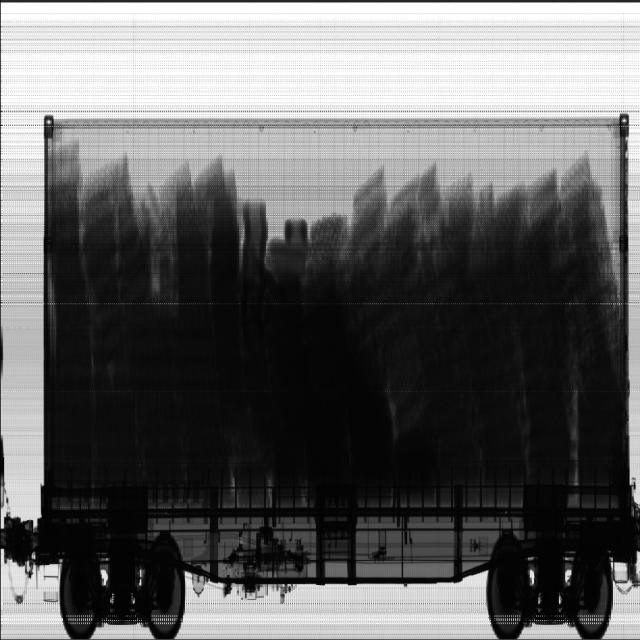clothes: (263, 281, 436, 495)
